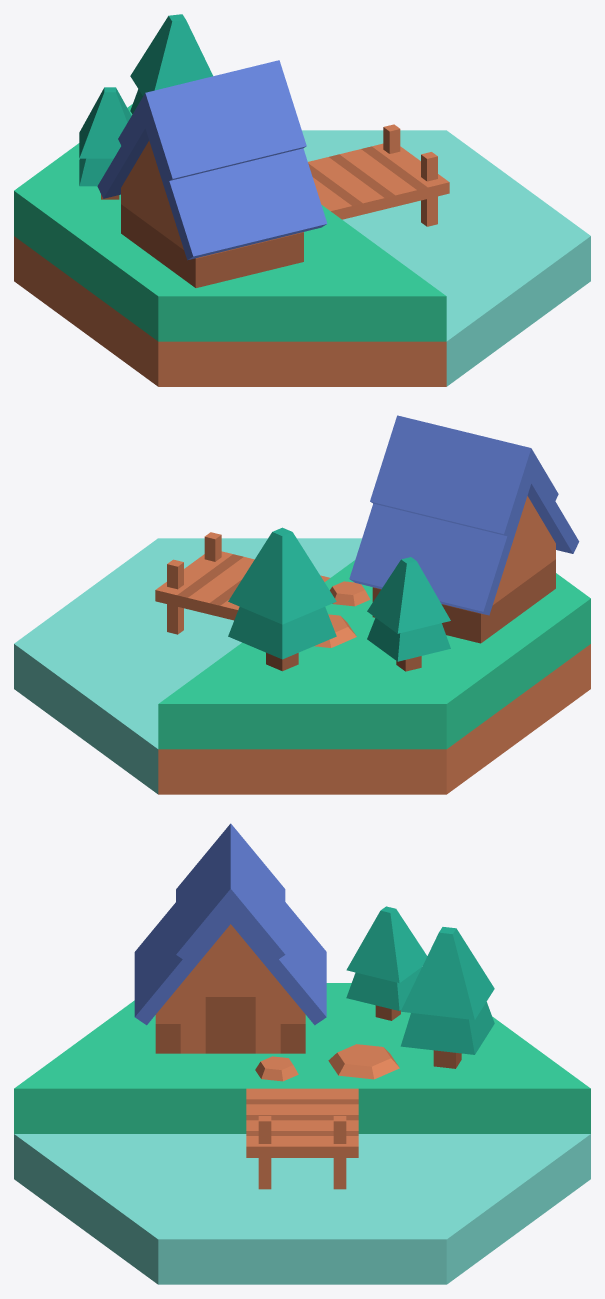
File: building_dock.dae
3 renders of one model, top to bottom at view 1: azimuth 30°, elevation 25°; view 2: azimuth 150°, elevation 25°; view 3: azimuth 270°, elevation 25°, orthographic.
Parts seen in each view (by area): view 1: building_dock, building, dock, tree (×2); view 2: building_dock, building, tree (×2), dock, path (×2); view 3: building_dock, building, tree (×2), dock, path (×2).
Part boxes in pixels (bbox=[...]): building_dock: bbox=[14, 104, 590, 386]; building: bbox=[97, 60, 327, 287]; dock: bbox=[308, 124, 449, 226]; tree (×2): bbox=[79, 14, 212, 199]; building_dock: bbox=[14, 538, 590, 794]; building: bbox=[349, 415, 579, 643]; tree (×2): bbox=[228, 527, 450, 671]; dock: bbox=[155, 532, 329, 634]; path (×2): bbox=[314, 581, 370, 647]; building_dock: bbox=[14, 983, 590, 1284]; building: bbox=[134, 823, 326, 1053]; tree (×2): bbox=[346, 906, 494, 1068]; dock: bbox=[246, 1088, 358, 1189]; path (×2): bbox=[255, 1044, 399, 1081].
Size of the model in its own units: 1 by 0.5781 by 1.15.
